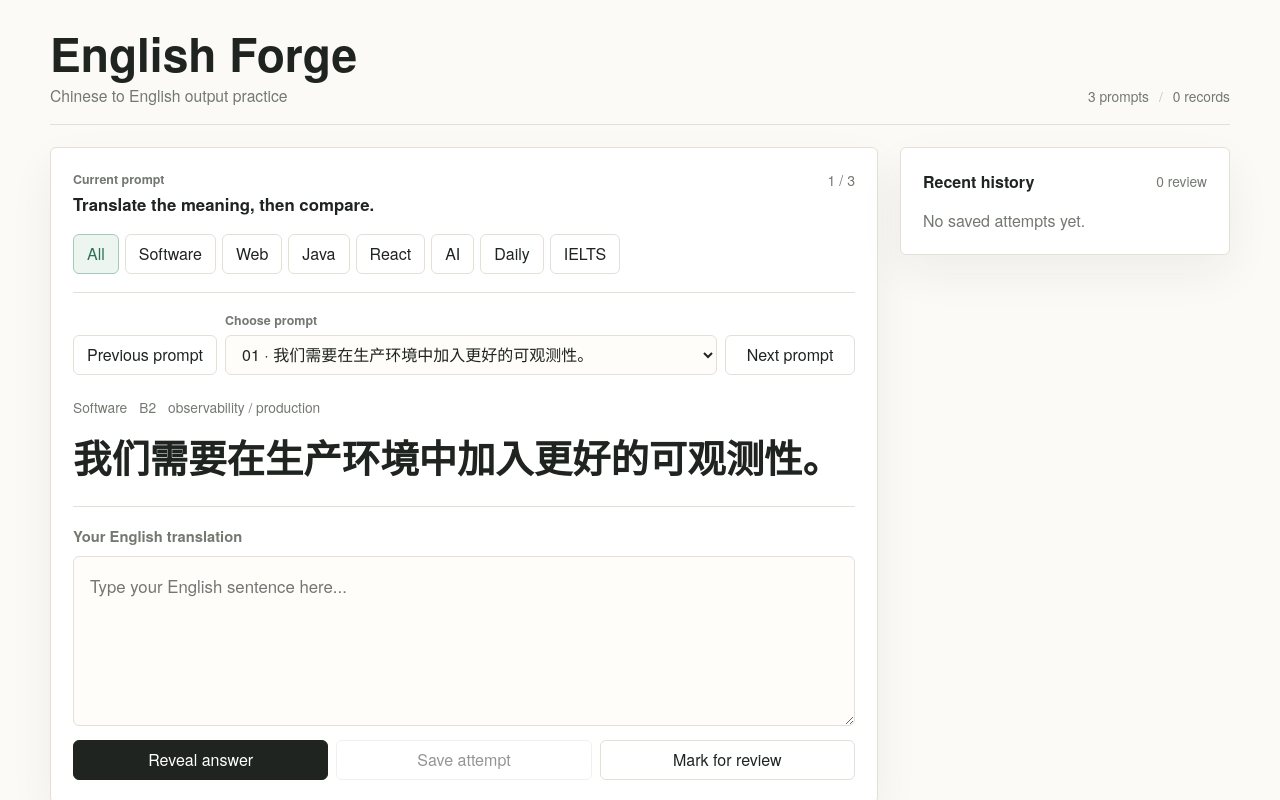
Scenario: PracticeApp › navigates to previous, next, and any selected prompt
Expected: the text "我们需要在生产环境中加入更好的可观测性。" is shown, [73,433,855,484]
Click the button "Next prompt" at {"x": 790, "y": 355}, box [725,335,855,375]
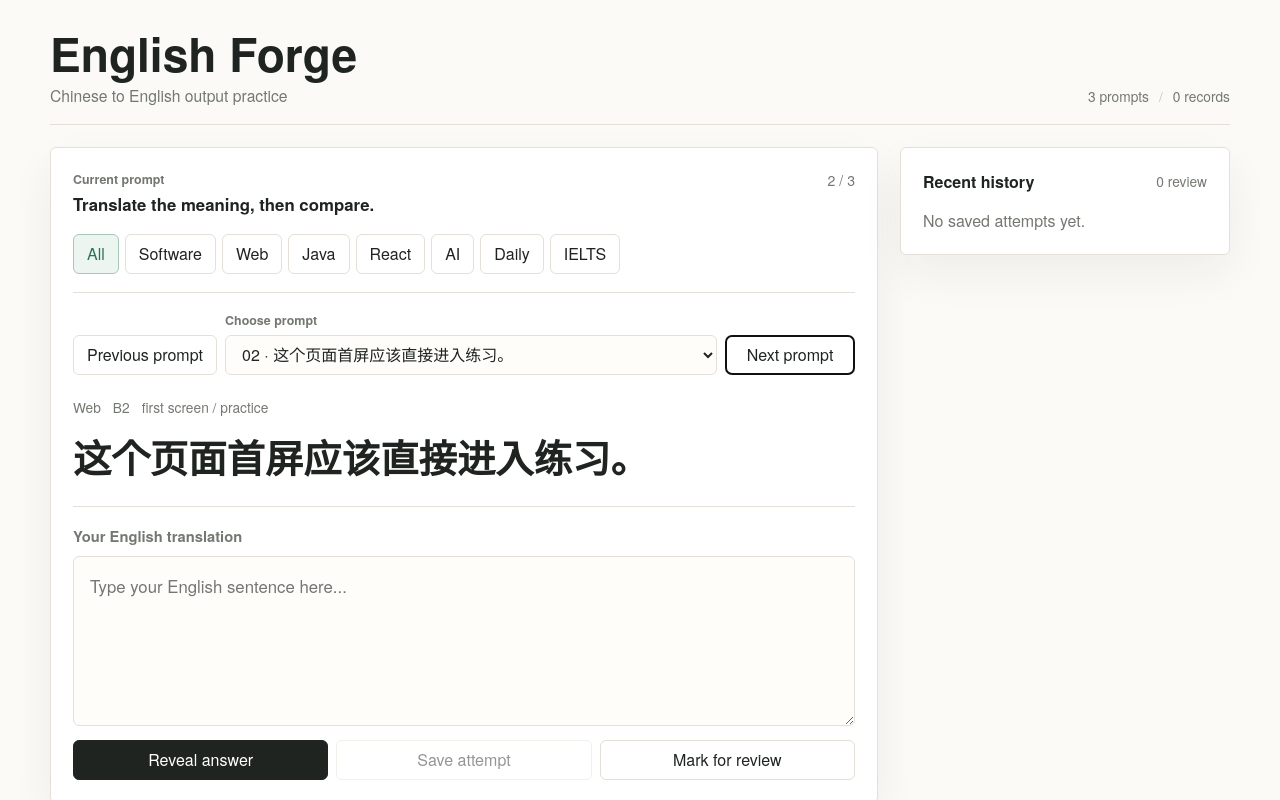
Now the text "这个页面首屏应该直接进入练习。" is shown, box [73,430,649,485]
Click the button "Previous prompt" at {"x": 145, "y": 355}, box [73,335,217,375]
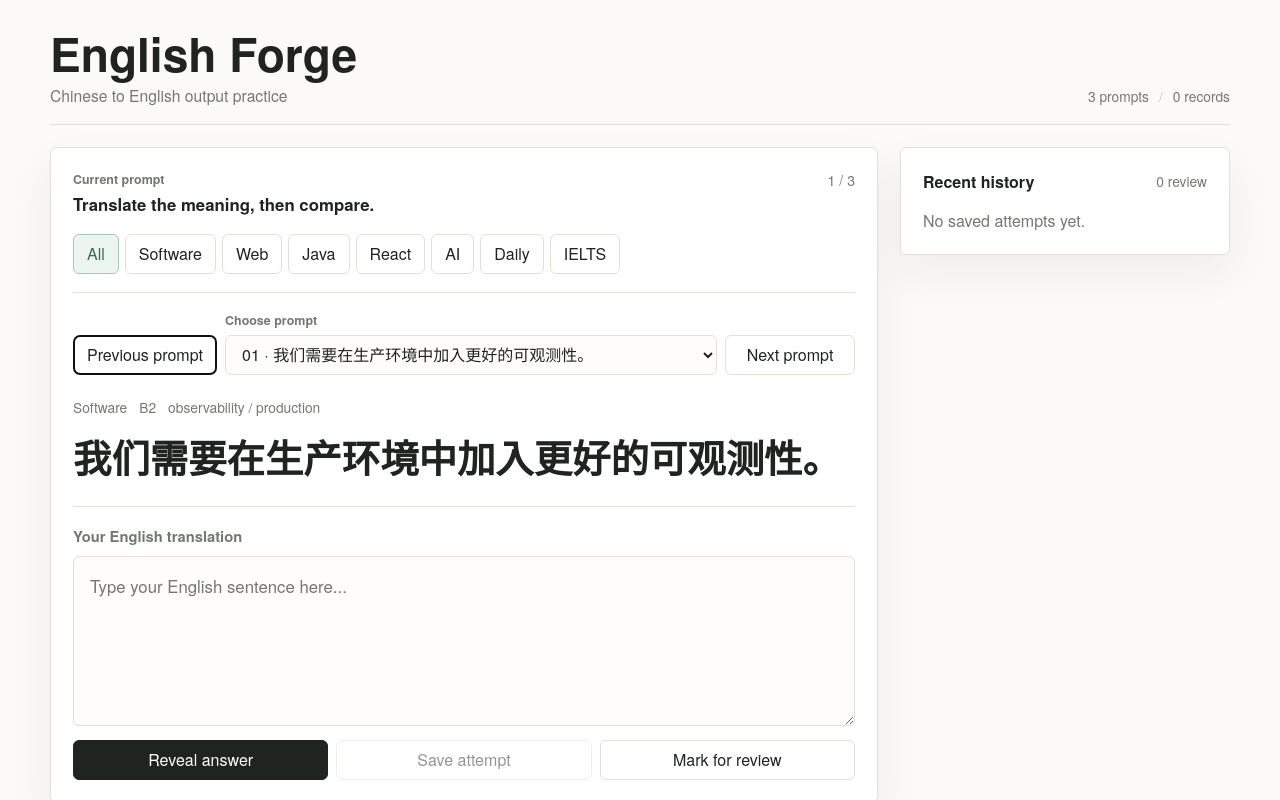
Now the text "我们需要在生产环境中加入更好的可观测性。" is shown, box [73,433,855,484]
Select "03 · 我需要一点时间整理我的想法。" in the dropdown labelled "Choose prompt" at {"x": 471, "y": 355}, box [225,335,717,375]
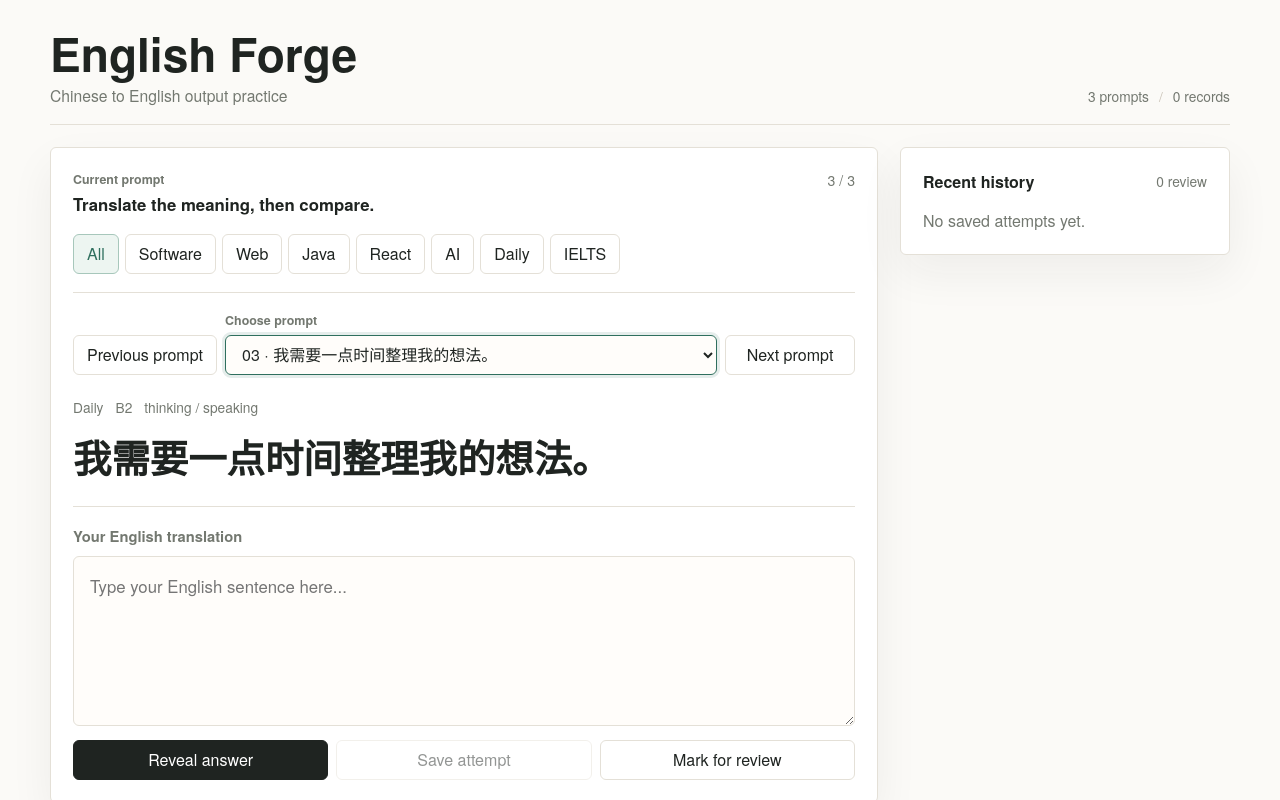
Now the text "我需要一点时间整理我的想法。" is shown, box [73,430,610,485]
Now the text "3 / 3" is shown, box [828,170,855,190]
